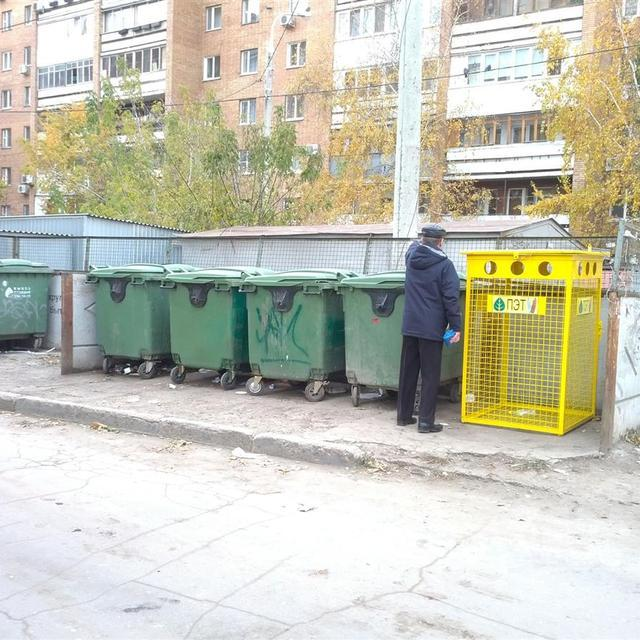Trash_Can_Closed: (340, 269, 466, 391), (244, 267, 347, 380), (165, 265, 249, 369), (86, 262, 171, 360), (1, 259, 53, 335)
